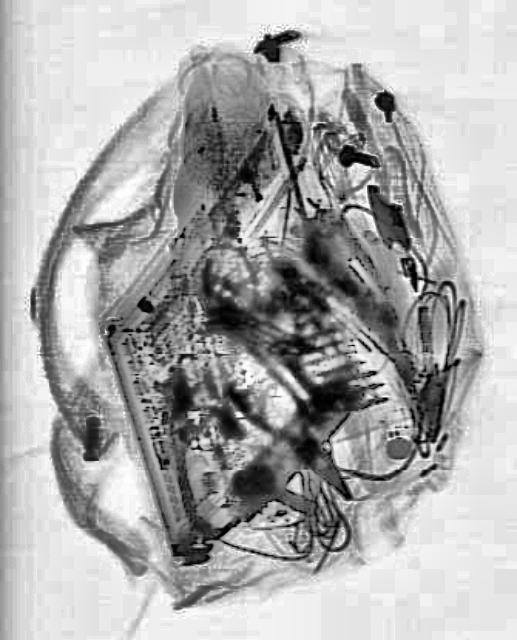Pliers: (220, 347, 370, 519)
